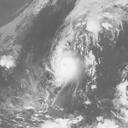cyclone: (49, 51, 82, 88)
